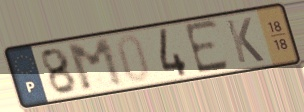0: (114, 33, 153, 86)
4: (158, 25, 190, 80)
8: (40, 46, 78, 96)
E: (181, 16, 233, 77)
K: (223, 16, 267, 66)
M: (64, 36, 128, 94)
